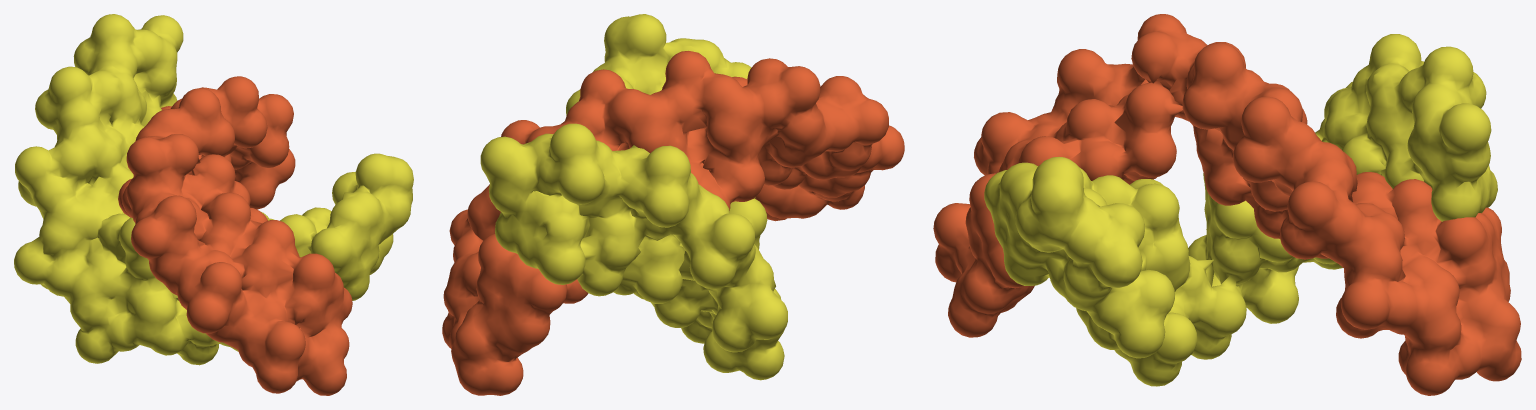
The model's file is 1mxkCentered.fbx.
The picture shows the model from 3 angles, left to right: view 1: azimuth 30°, elevation 25°; view 2: azimuth 150°, elevation 25°; view 3: azimuth 270°, elevation 25°; orthographic projection. The views are drawn at different scales.
Visible parts, largest first — view 1: chain_A model_1 chain_A_surface; view 2: chain_A model_1 chain_A_surface; view 3: chain_A model_1 chain_A_surface.
Part boxes in pixels (x1=…): chain_A model_1 chain_A_surface: x1=14, y1=14, x2=413, y2=395; chain_A model_1 chain_A_surface: x1=442, y1=14, x2=904, y2=395; chain_A model_1 chain_A_surface: x1=933, y1=14, x2=1521, y2=395.
Size of the model in its own units: 2659 by 2346 by 3924.
